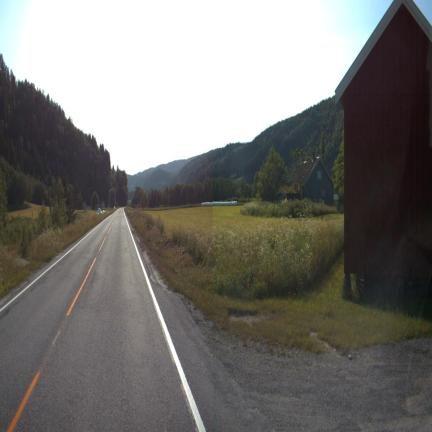Road: (0, 209, 262, 430)
